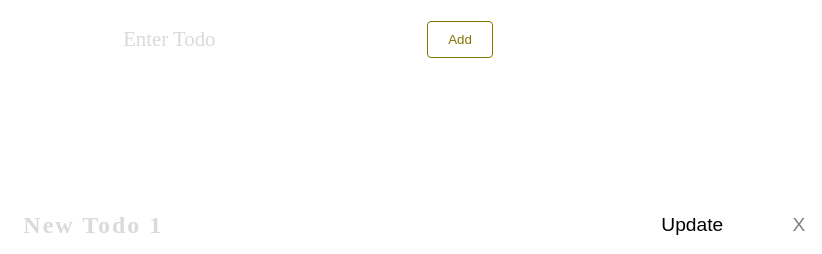
Test case: should correctly update todo
This screenshot has width=822, height=254.
Expected: the heading "New Todo 1" is shown, x1=23 y1=212 x2=163 y2=238
Click the button "Update" at (692, 225), box x1=655 y1=213 x2=729 y2=237
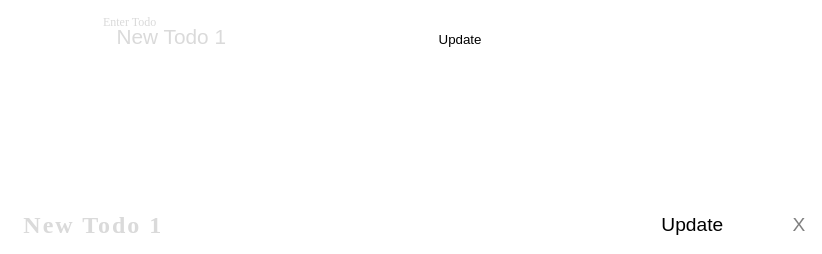
Clear the field labelled "Enter Todo" at (250, 37), box x1=114 y1=24 x2=386 y2=50
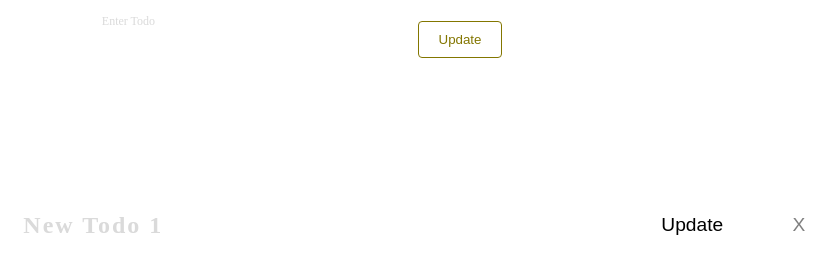
Type "New Todo 22" into the field labelled "Enter Todo" at (250, 37), box x1=114 y1=24 x2=386 y2=50
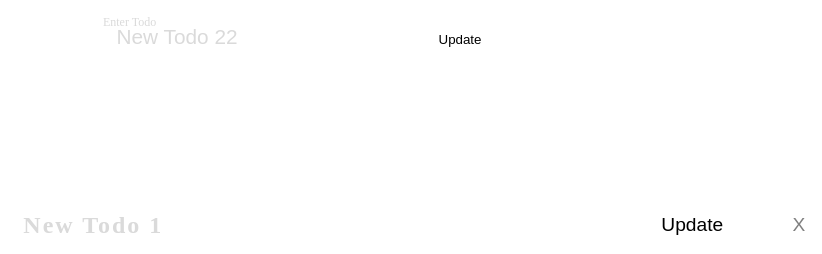
Click the button "Update" in the row of "Enter Todo" at (460, 40), box x1=418 y1=22 x2=502 y2=57
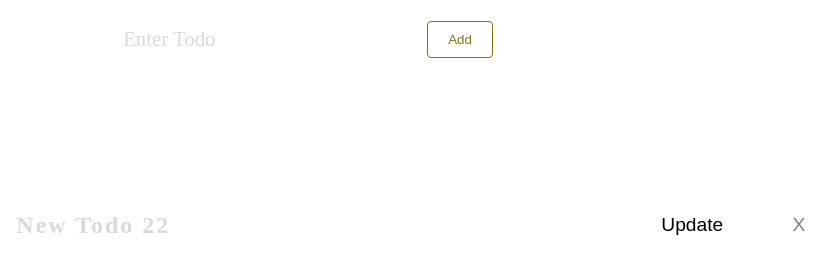
Expected: the heading "New Todo 22" is shown, x1=16 y1=212 x2=170 y2=238
